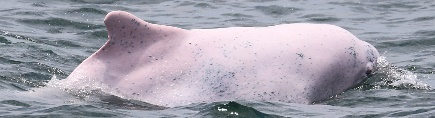fin: (48, 8, 403, 111)
